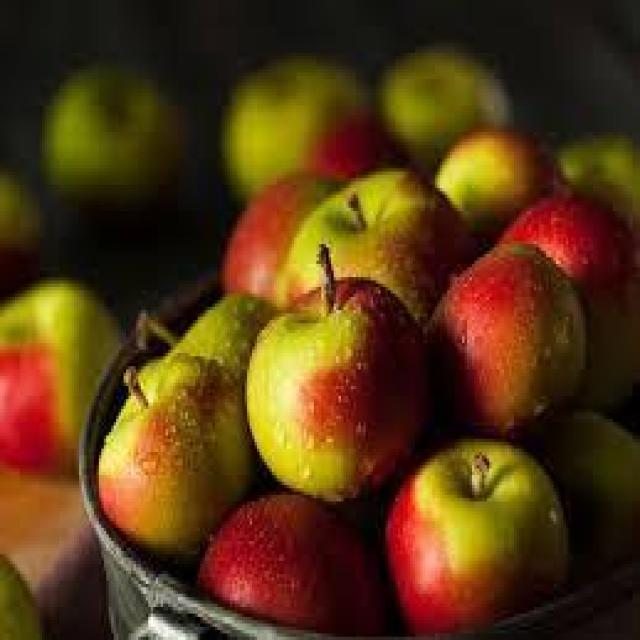maca: (87, 43, 638, 637)
